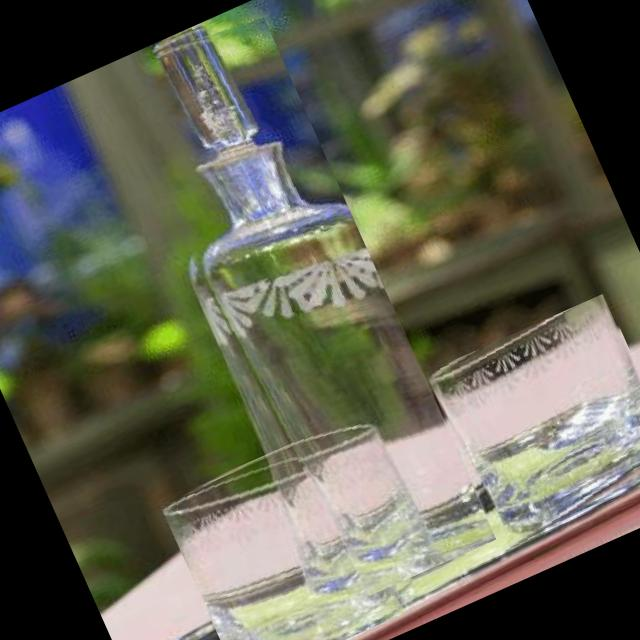Glass: (94, 1, 496, 612), (159, 419, 424, 640), (426, 293, 640, 552)
